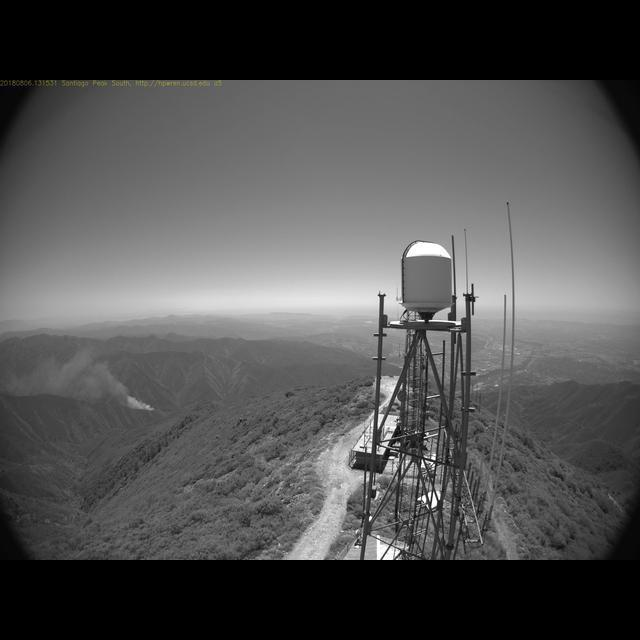Smoke: (2, 346, 154, 413)
